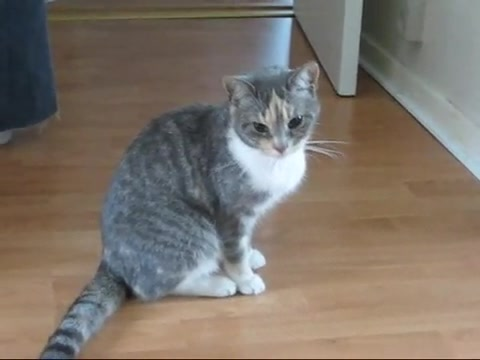cat: (40, 57, 327, 359)
